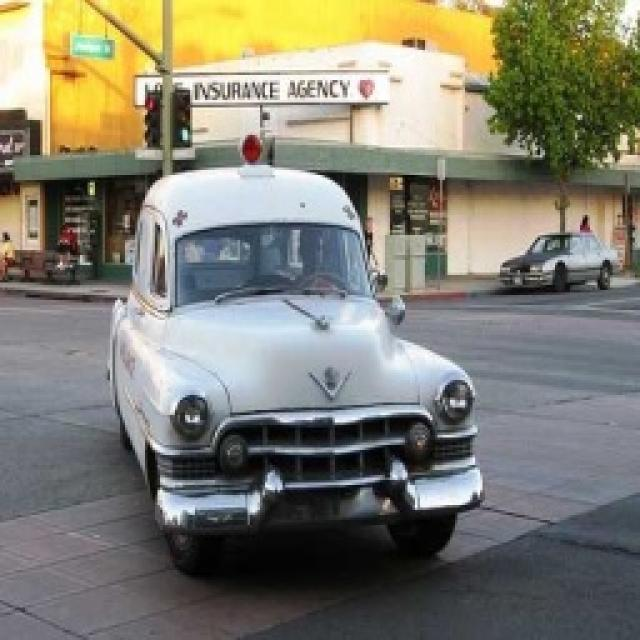emergency-vehicle: (64, 93, 539, 578)
